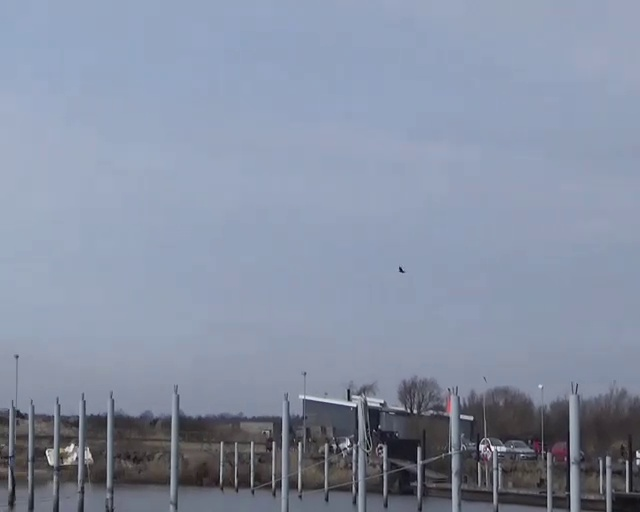BIRD: (398, 265, 406, 273)
